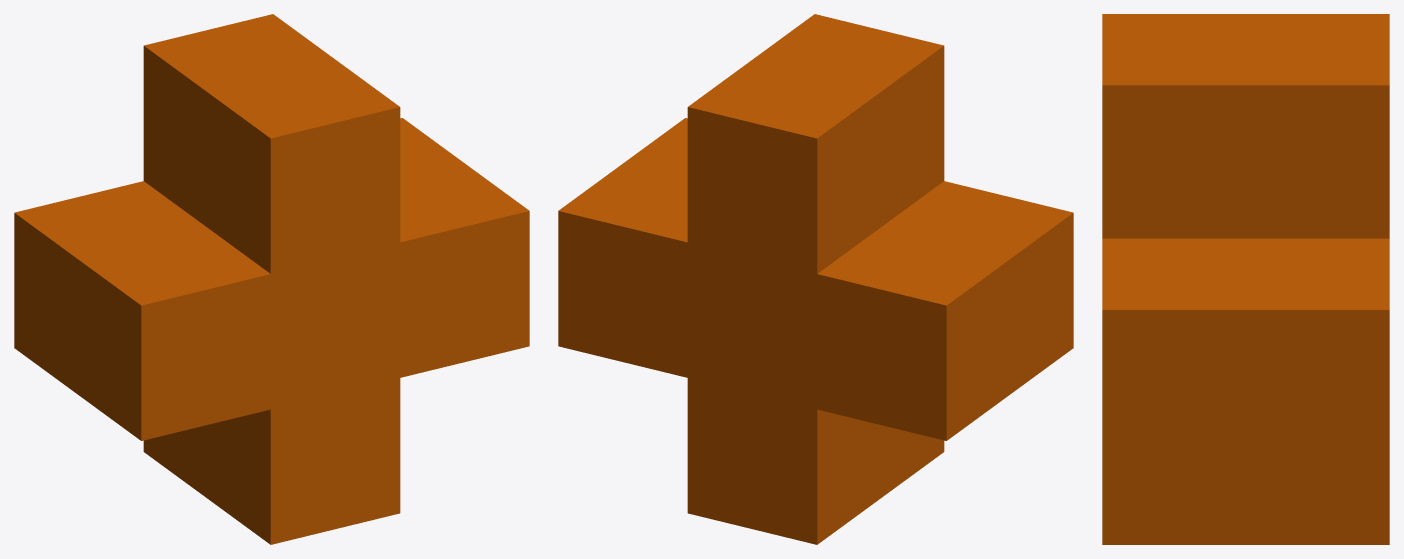
The picture shows the model from 3 angles, left to right: view 1: azimuth 30°, elevation 25°; view 2: azimuth 150°, elevation 25°; view 3: azimuth 270°, elevation 25°; orthographic projection. The views are drawn at different scales.
Visible parts, largest first — view 1: ss3d_42_healing; view 2: ss3d_42_healing; view 3: ss3d_42_healing.
Part boxes in pixels (x1,y1,x2,y2): ss3d_42_healing: (14, 14, 529, 544); ss3d_42_healing: (558, 14, 1073, 544); ss3d_42_healing: (1102, 14, 1389, 544).
Size of the model in its own units: 0.2109 by 0.2109 by 0.1195.
Materials: 1 (1 with a texture image).
